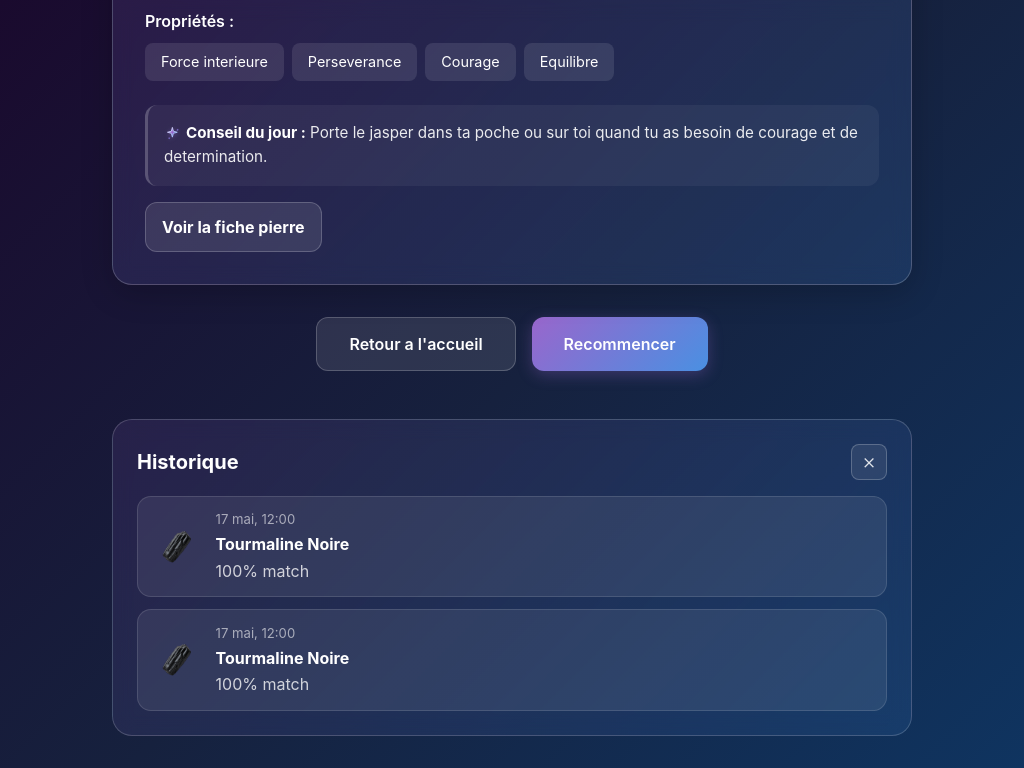
Test case: Results history › clears history when clicking the clear button
(page scrolled)
Click the button named "Effacer l'historique" at (869, 462), box [851,444,887,480]
(page scrolled)
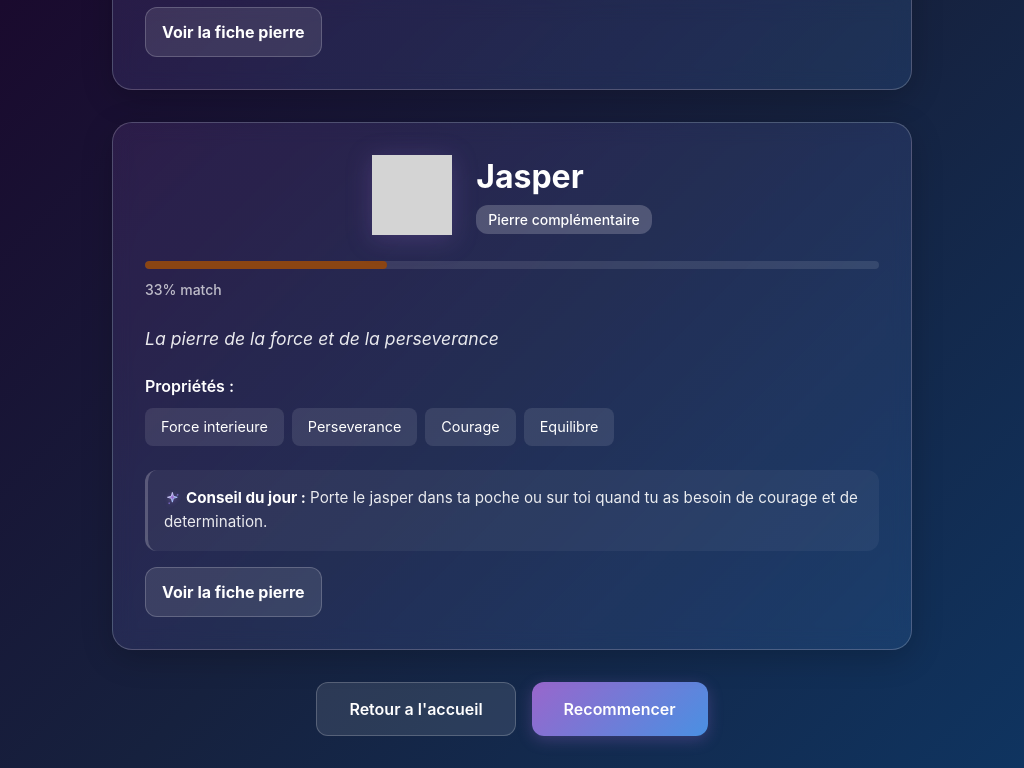
Now the heading "Historique" is gone
